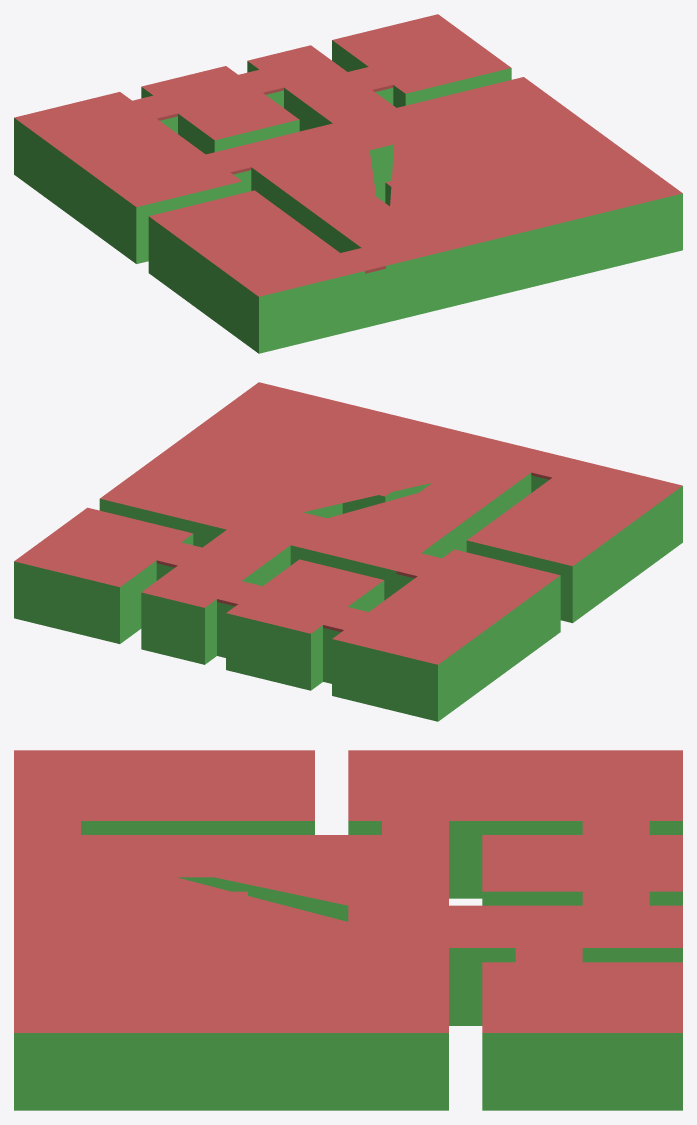
The picture shows the model from 3 angles, top to bottom: view 1: azimuth 30°, elevation 25°; view 2: azimuth 150°, elevation 25°; view 3: azimuth 270°, elevation 25°; orthographic projection. The views are drawn at different scales.
Visible parts, largest first — view 1: Plane; view 2: Plane; view 3: Plane.
Part boxes in pixels (bbox=[...]): Plane: bbox=[14, 14, 682, 353]; Plane: bbox=[14, 382, 682, 721]; Plane: bbox=[14, 750, 682, 1110].
Bounding box in the file's own units: 5455 × 700 × 5455.
